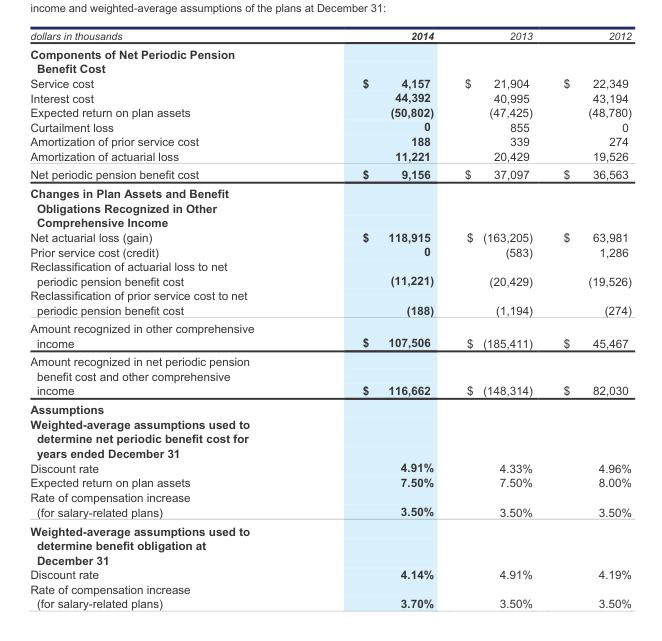table: (29, 29, 630, 609)
table column: (29, 29, 279, 609), (279, 29, 448, 609), (448, 29, 547, 609), (547, 29, 630, 609)
table column header: (29, 29, 630, 44)
table projected row header: (29, 183, 630, 200), (29, 399, 630, 416), (29, 44, 630, 60), (29, 319, 630, 335), (29, 352, 630, 368), (29, 521, 630, 537), (29, 60, 630, 75), (29, 200, 630, 215), (29, 258, 630, 273), (29, 416, 630, 431), (29, 445, 630, 460), (29, 489, 630, 504), (29, 537, 630, 552), (29, 581, 630, 596), (29, 215, 630, 229), (29, 288, 630, 302), (29, 368, 630, 382), (29, 431, 630, 445), (29, 552, 630, 566)
table row: (29, 164, 630, 183), (29, 183, 630, 200), (29, 302, 630, 319), (29, 335, 630, 352), (29, 382, 630, 399), (29, 399, 630, 416), (29, 504, 630, 521), (29, 44, 630, 60), (29, 148, 630, 164), (29, 319, 630, 335), (29, 352, 630, 368), (29, 521, 630, 537), (29, 29, 630, 44), (29, 60, 630, 75), (29, 75, 630, 90), (29, 104, 630, 119), (29, 133, 630, 148), (29, 200, 630, 215), (29, 229, 630, 244), (29, 258, 630, 273), (29, 273, 630, 288), (29, 416, 630, 431), (29, 445, 630, 460), (29, 474, 630, 489), (29, 489, 630, 504), (29, 537, 630, 552), (29, 566, 630, 581), (29, 581, 630, 596), (29, 90, 630, 104), (29, 119, 630, 133), (29, 215, 630, 229), (29, 244, 630, 258), (29, 288, 630, 302), (29, 368, 630, 382), (29, 431, 630, 445), (29, 460, 630, 474), (29, 552, 630, 566), (29, 596, 630, 609)
